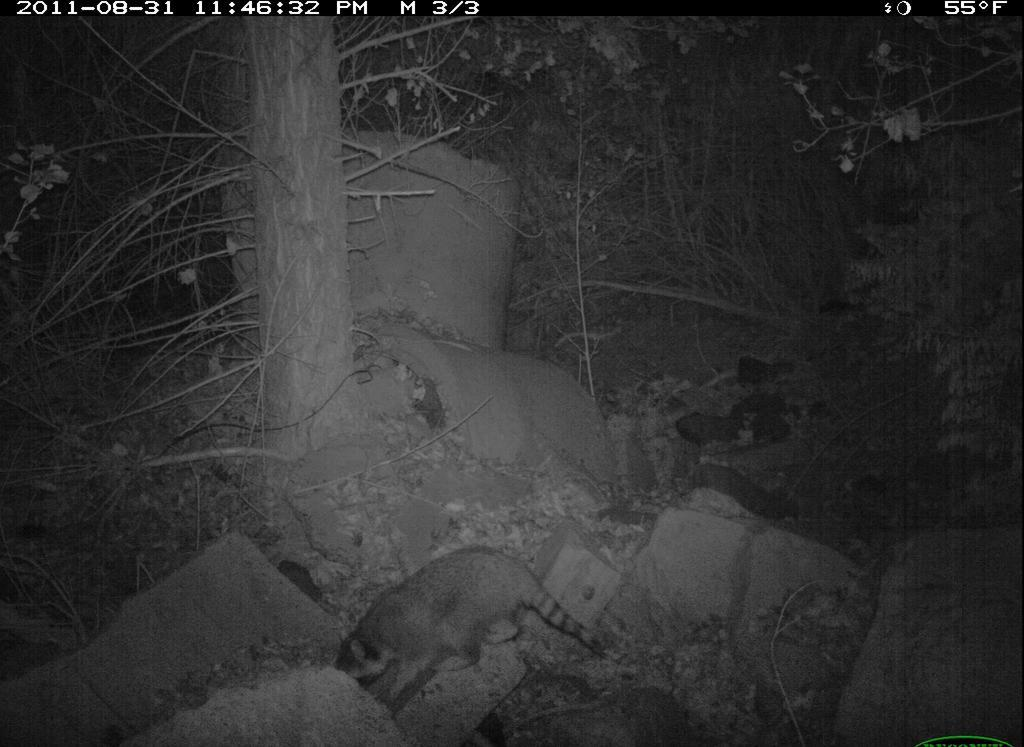raccoon: (335, 550, 607, 712)
